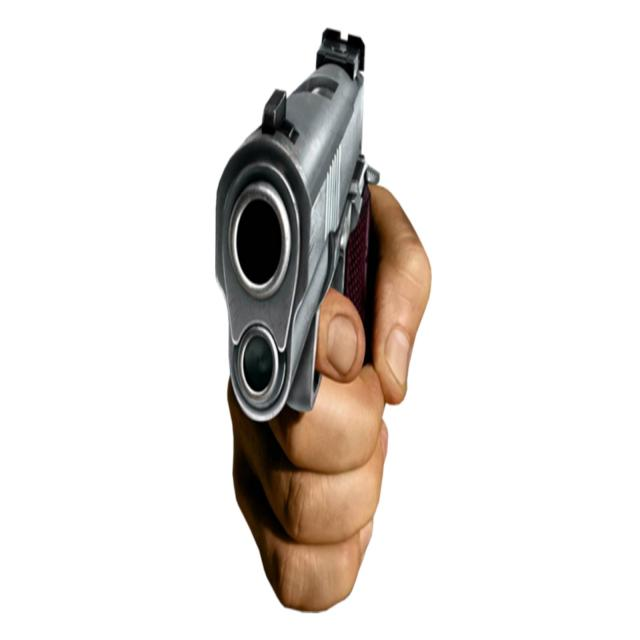HandGun: (215, 28, 381, 425)
